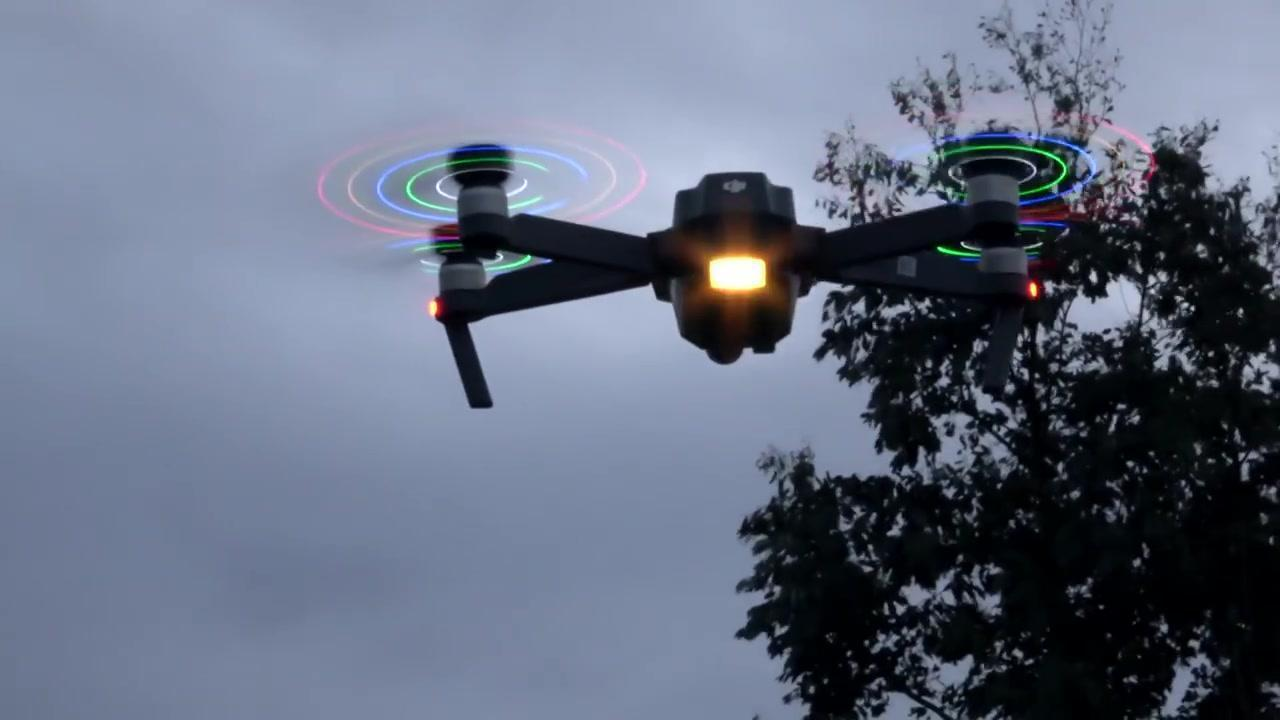UAV: (316, 109, 1158, 411)
